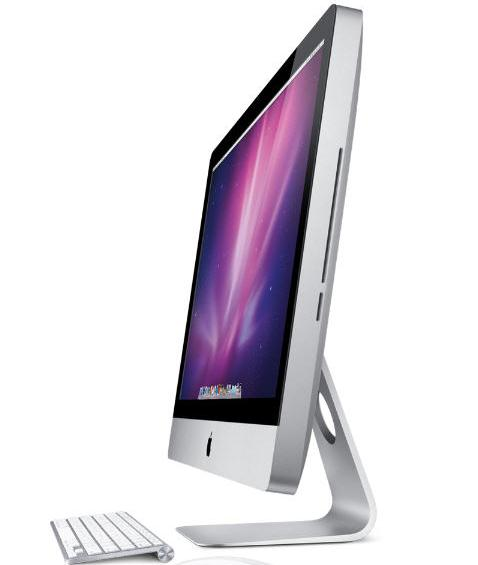Apple: (201, 427, 225, 463)
